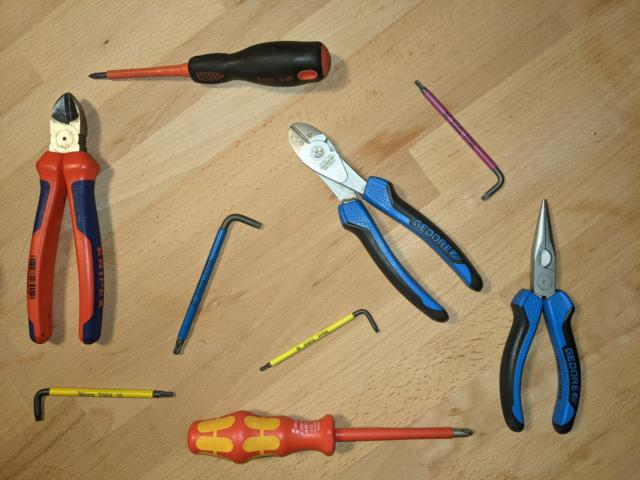Inbusschlüssel: (169, 211, 265, 359), (410, 76, 507, 203), (256, 306, 381, 378), (29, 384, 179, 425)
Schraubendreher: (184, 407, 477, 467), (85, 37, 333, 90)
Seitenschneider: (284, 119, 488, 326), (21, 90, 111, 349)
Zange: (495, 195, 585, 436)
